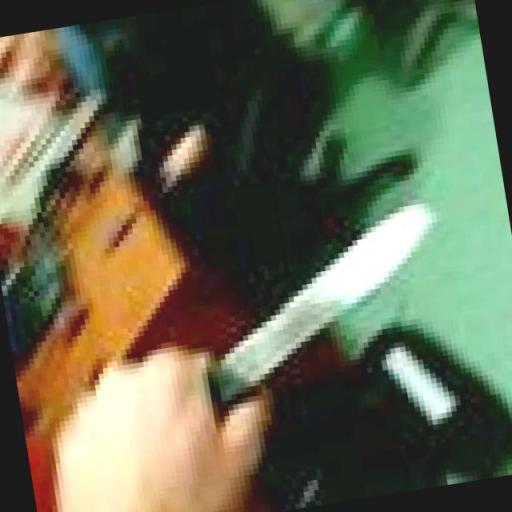knife: (166, 162, 484, 425)
